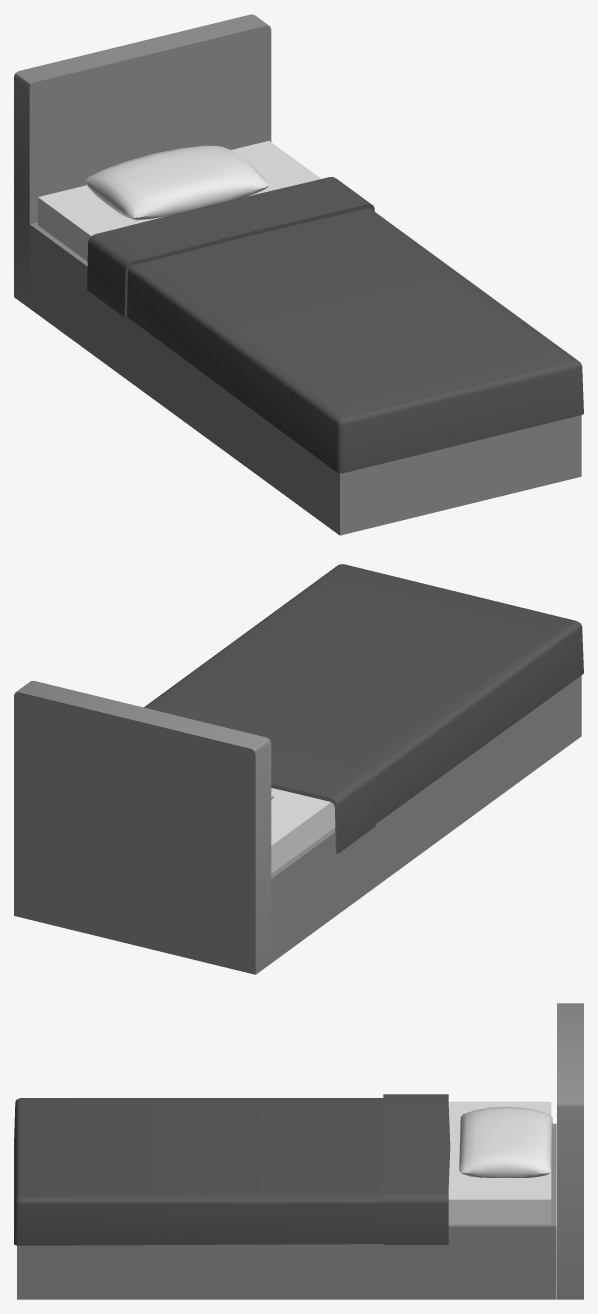
File: Bed4_C1.fbx
The picture shows the model from 3 angles, top to bottom: view 1: azimuth 30°, elevation 25°; view 2: azimuth 150°, elevation 25°; view 3: azimuth 270°, elevation 25°; orthographic projection. The views are drawn at different scales.
Visible parts, largest first — view 1: Bed4_C1; view 2: Bed4_C1; view 3: Bed4_C1.
Boxes of the visible parts, box(x1,y1,x2,y2) form: Bed4_C1: box(14, 14, 583, 535); Bed4_C1: box(14, 564, 583, 974); Bed4_C1: box(14, 1003, 583, 1299).
Bounding box in the file's own units: 93.54 × 80 × 211.
